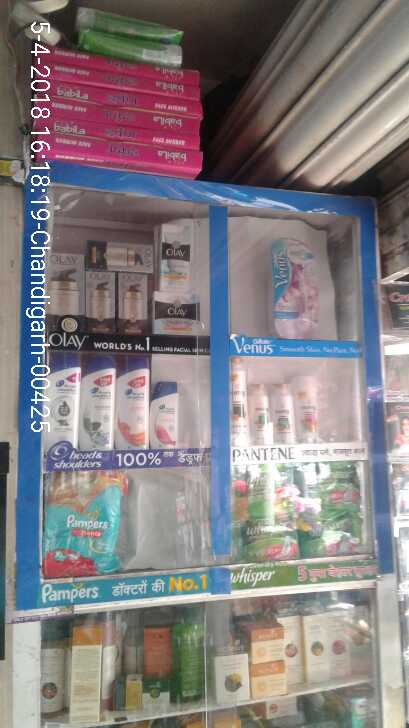gillete: (270, 237, 321, 339)
